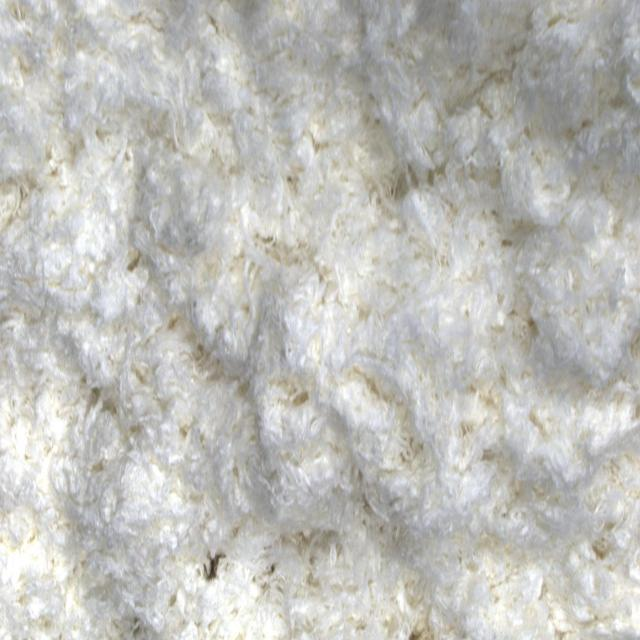dust: (207, 555, 237, 591)
